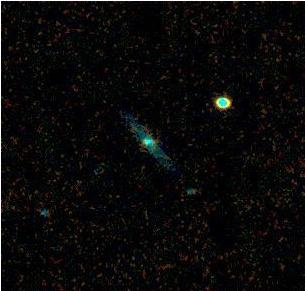star: (179, 177, 209, 207)
